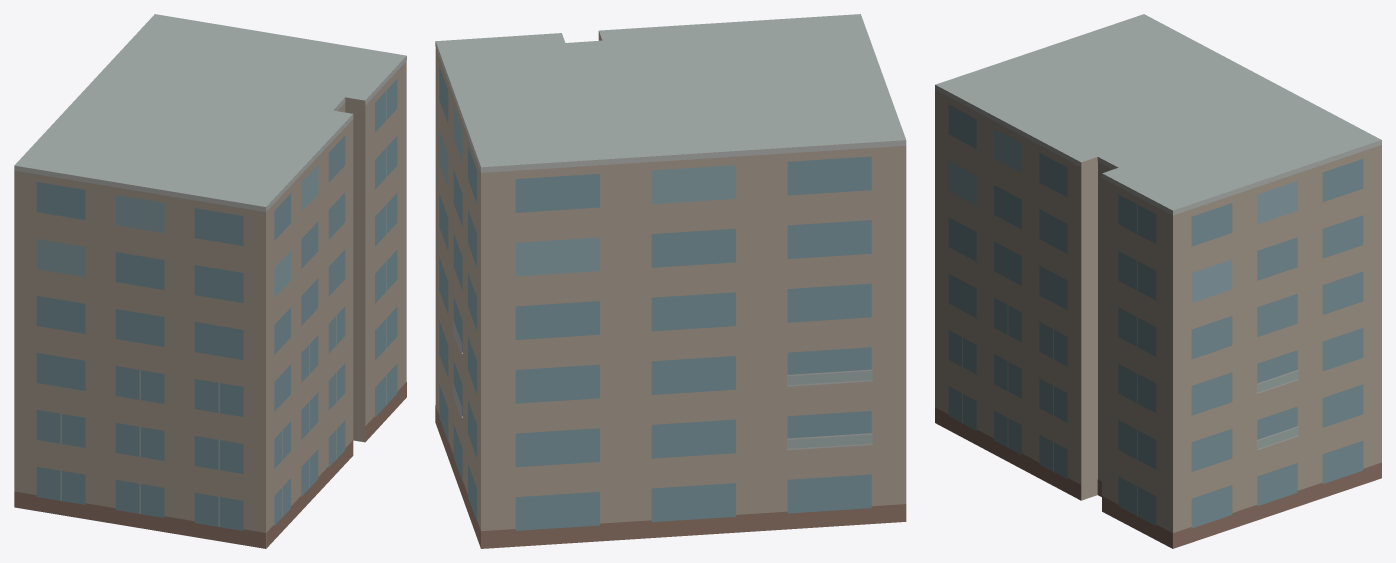
Rendered from survey-upis-32729191.glb.
3 renders of one model, left to right at view 1: azimuth 30°, elevation 25°; view 2: azimuth 150°, elevation 25°; view 3: azimuth 270°, elevation 25°, orthographic. The views are drawn at different scales.
Visible parts, largest first — view 1: survey-upis-32729191.tmp; view 2: survey-upis-32729191.tmp; view 3: survey-upis-32729191.tmp.
Boxes of the visible parts, x1,y1,x2,y2 form: survey-upis-32729191.tmp: (14, 14, 406, 548); survey-upis-32729191.tmp: (435, 14, 906, 548); survey-upis-32729191.tmp: (935, 14, 1381, 548).
Bounding box in the file's own units: 20.7 × 16.6 × 19.88.
